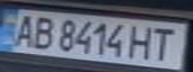1: (90, 20, 109, 55)
4: (106, 20, 130, 57), (72, 19, 93, 54)
8: (54, 17, 78, 53)
A: (6, 11, 42, 48)
B: (27, 13, 57, 51)
H: (124, 22, 160, 61)
T: (145, 25, 184, 62)
